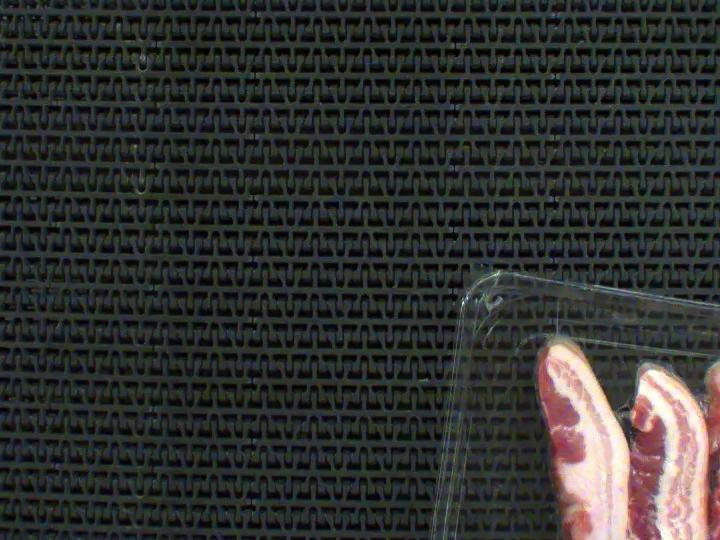packaging-error: (693, 310, 720, 385)
